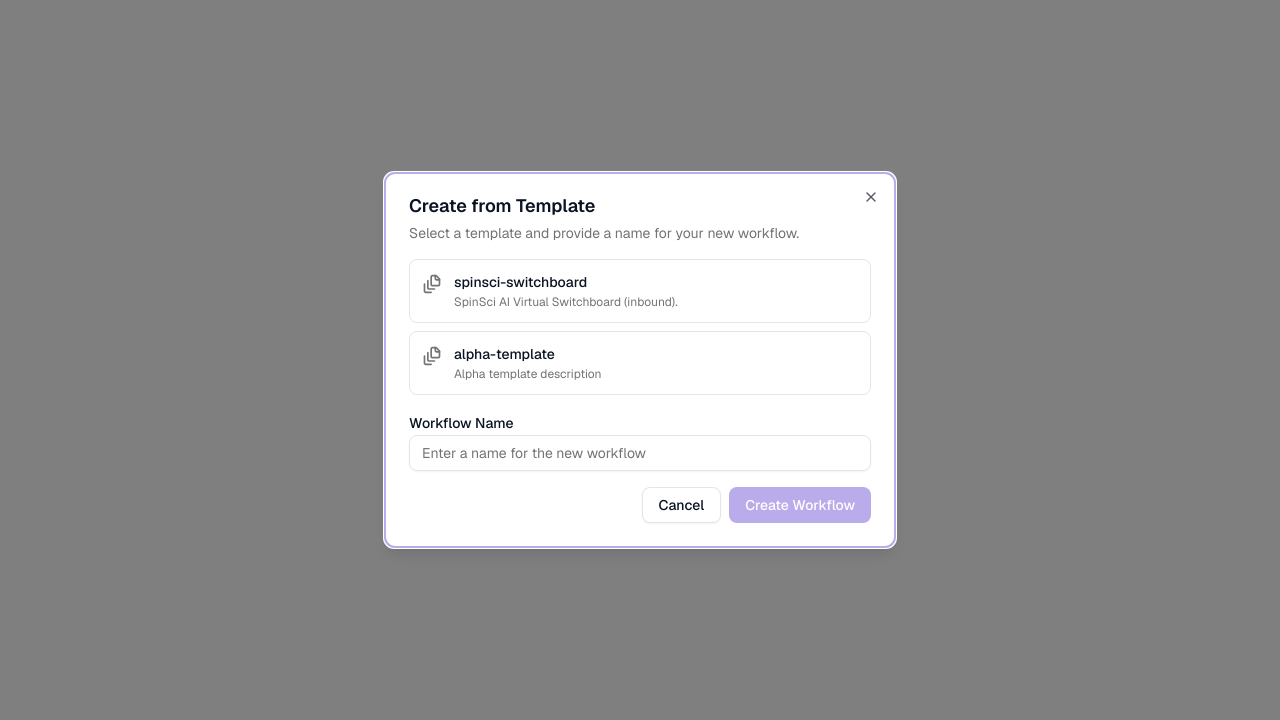
Test: CreateFromTemplateDialog › Create button is disabled when no template is selected or workflow name is empty
Expected: the button "Create Workflow" is disabled, [729,487,871,523]
Note: Select template but no name yet — still disabled
Click the text "alpha-template" at [504, 354], box [454,345,555,363]
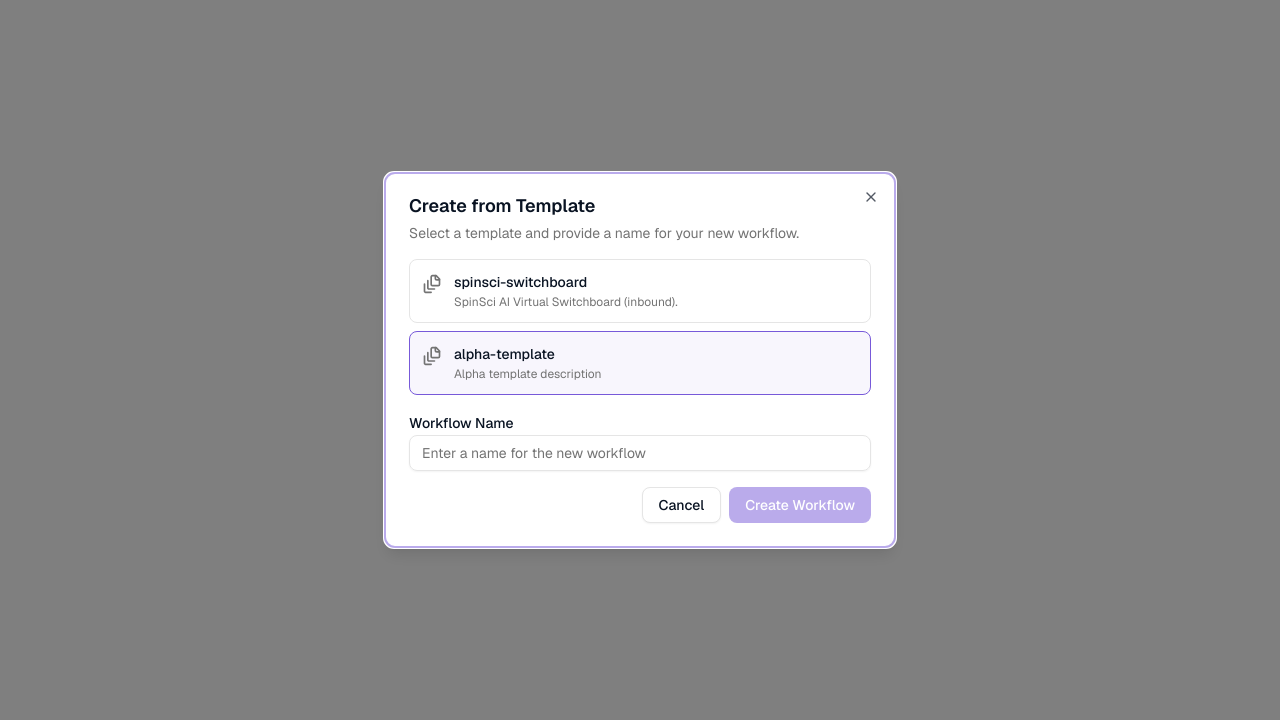
Expected: the button "Create Workflow" is disabled, [729,487,871,523]
Note: Enter name — now enabled
Type "Valid Name" into the field with placeholder "Enter a name for the new workflow" at [640, 453], box [409,435,871,471]
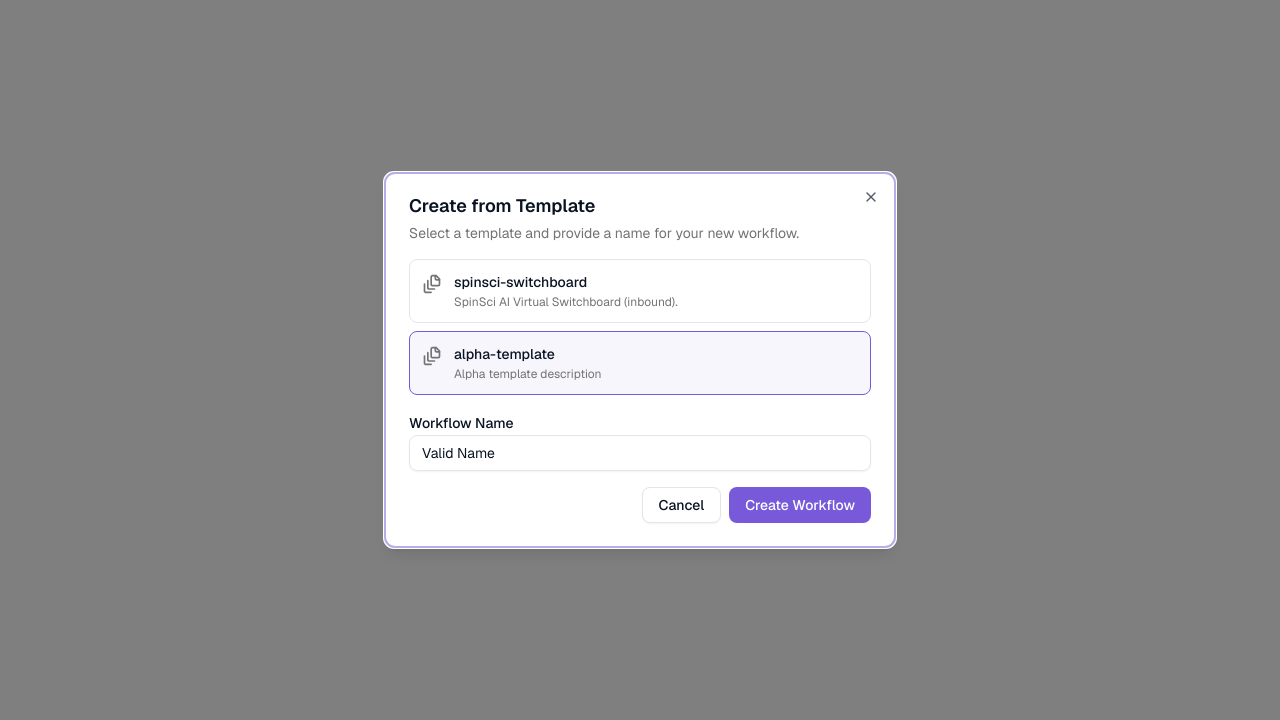
Now the button "Create Workflow" is enabled, box [729,487,871,523]
